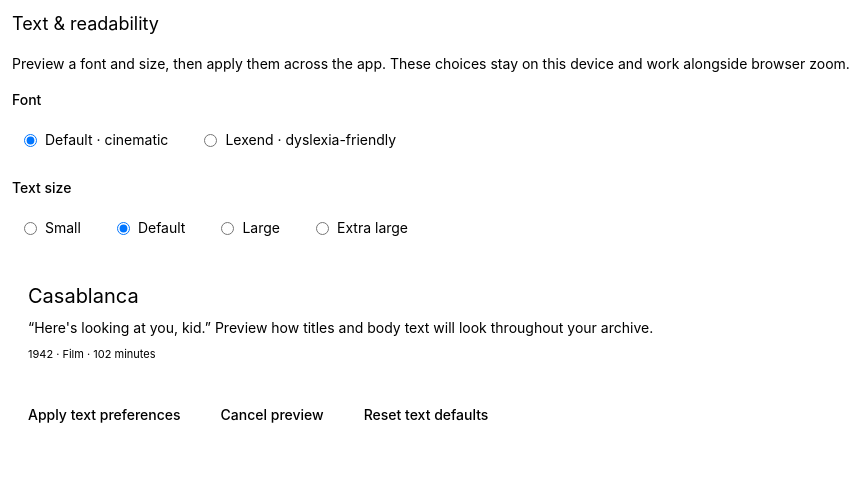
Test case: text preference preview › applies in memory with an honest warning when persistence is blocked
The width and height of the screenshot is (866, 479).
Click the radio button labelled "Large": (228, 228) [221,222,234,234]
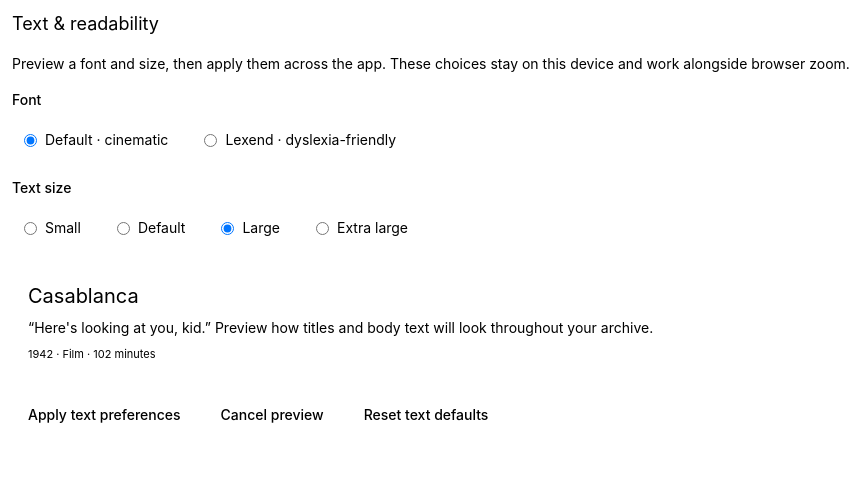
Click the button "Apply text preferences": (104, 414) [12,394,197,434]
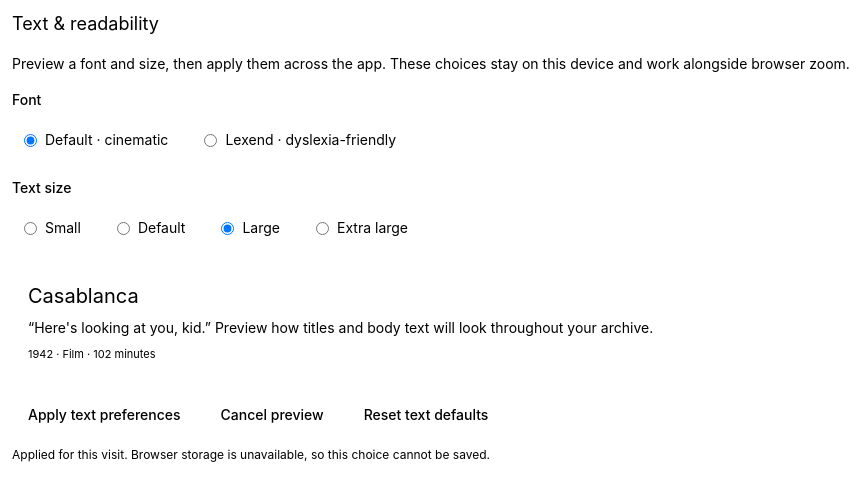
Expected: the message shows "Applied for this visit", [12,446,490,462]
